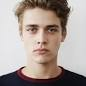without_mask: (21, 8, 66, 64)
